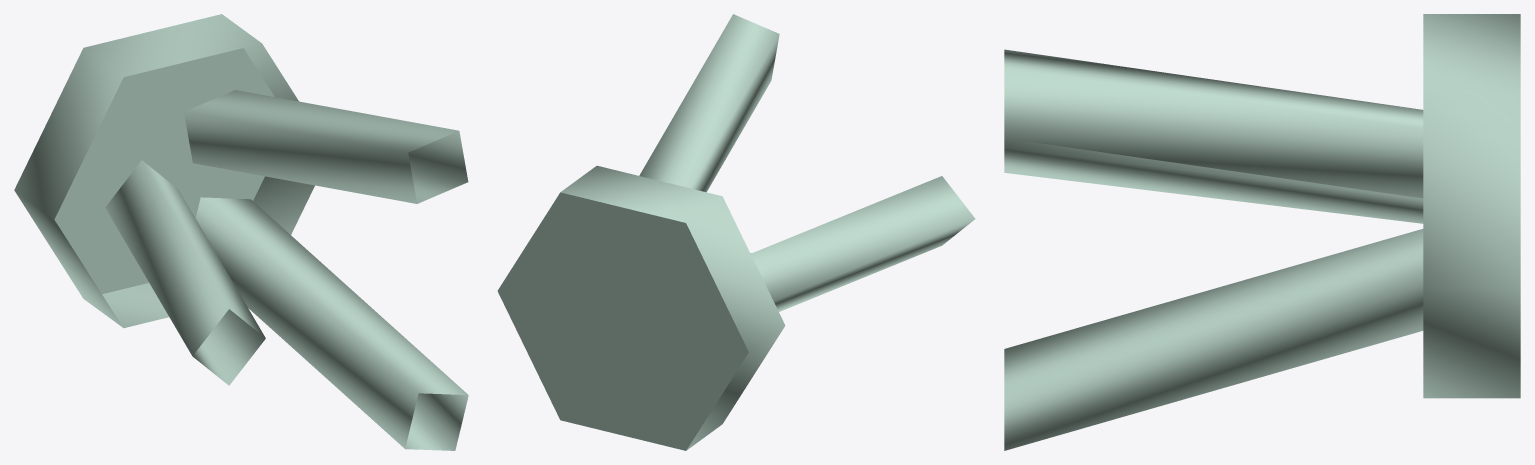
3 views of the same model, side by side, from view 1: azimuth 30°, elevation 25°; view 2: azimuth 150°, elevation 25°; view 3: azimuth 270°, elevation 25° (orthographic). The views are drawn at different scales.
Parts seen in each view (by area): view 1: Object46; view 2: Object46; view 3: Object46.
Part boxes in pixels (box(x1,y1,x2,y2)): Object46: box(14, 14, 468, 450); Object46: box(497, 14, 975, 450); Object46: box(1004, 14, 1520, 450).
Bounding box in the file's own units: 4338 × 4233 × 5141.
